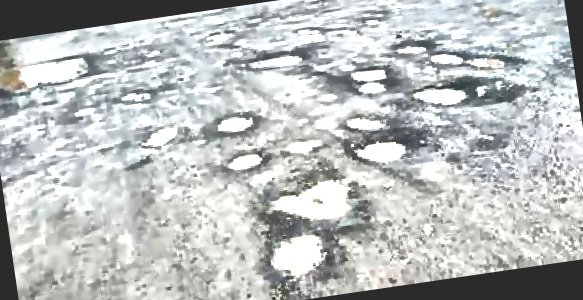pothole: (262, 172, 358, 227), (0, 51, 93, 94), (263, 228, 331, 279), (350, 132, 416, 168), (411, 77, 470, 109), (241, 47, 307, 73), (465, 47, 524, 74), (343, 109, 390, 135), (142, 122, 182, 149), (214, 110, 257, 135), (223, 150, 266, 172), (283, 134, 325, 156), (392, 35, 432, 56), (349, 64, 391, 83), (429, 46, 464, 67), (119, 86, 154, 104), (357, 78, 391, 96)
